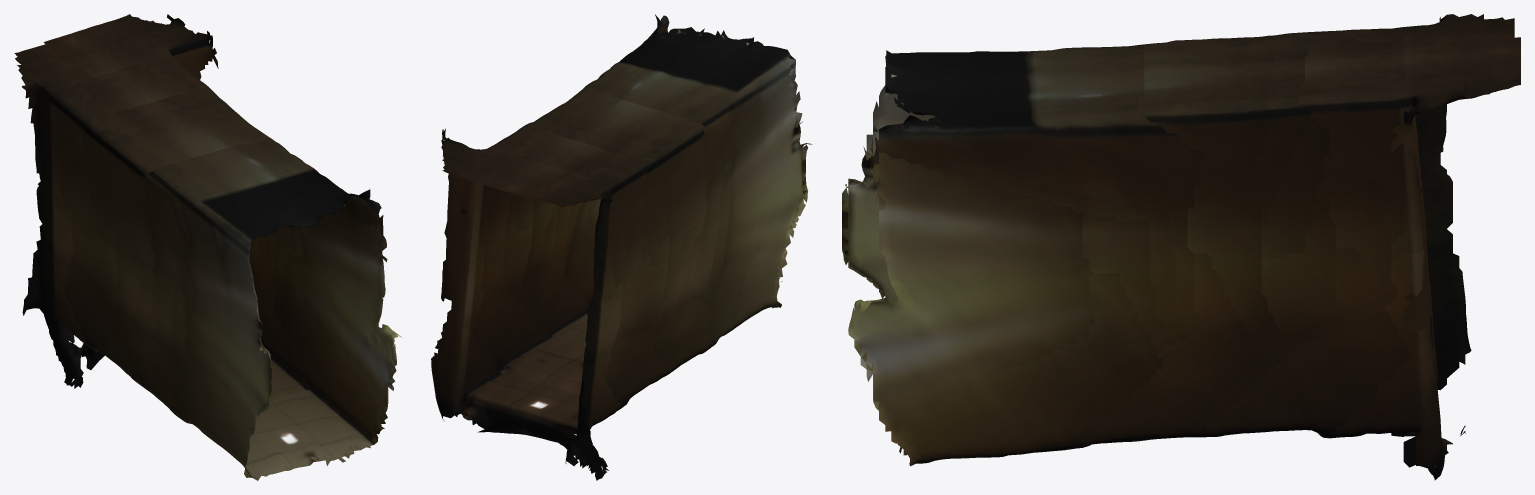
The model's file is Disc2.obj.
3 views of the same model, side by side, from view 1: azimuth 30°, elevation 25°; view 2: azimuth 150°, elevation 25°; view 3: azimuth 270°, elevation 25° (orthographic). The views are drawn at different scales.
Size of the model in its own units: 2.98 by 4.94 by 6.97.
1 material, 1 textured.
